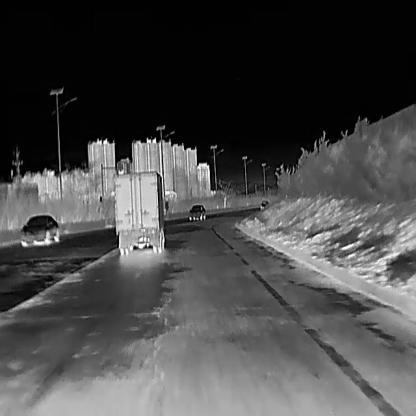car: (113, 169, 167, 254), (18, 213, 59, 245), (189, 203, 206, 219), (259, 199, 268, 208)
